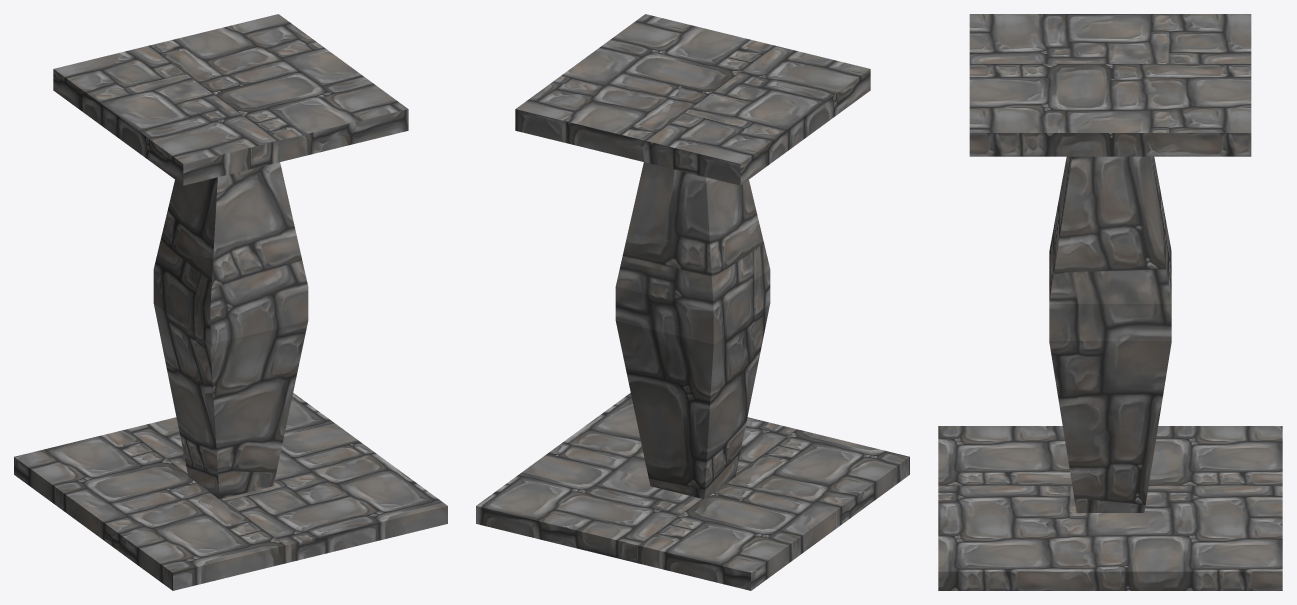
The model's file is Columna.fbx.
3 views of the same model, side by side, from view 1: azimuth 30°, elevation 25°; view 2: azimuth 150°, elevation 25°; view 3: azimuth 270°, elevation 25° (orthographic). The views are drawn at different scales.
Parts seen in each view (by area): view 1: Cube; view 2: Cube; view 3: Cube.
Boxes of the visible parts, box(x1,y1,x2,y2) form: Cube: box(14, 14, 447, 590); Cube: box(476, 14, 909, 590); Cube: box(938, 14, 1282, 590).
Bounding box in the file's own units: 100 × 143 × 100.
Materials: 1 (1 with a texture image).
